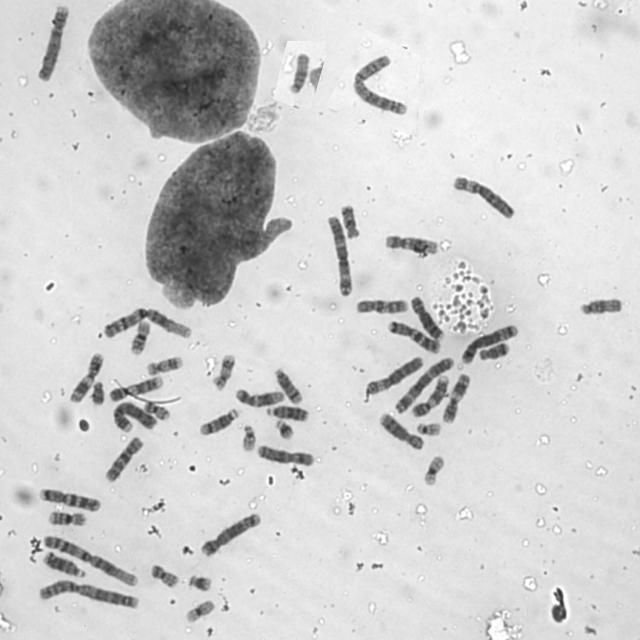A1: (40, 533, 139, 586), (104, 304, 192, 338)
A2: (352, 54, 409, 116), (36, 578, 140, 610)
A3: (394, 356, 454, 414), (326, 216, 353, 296)
B4: (35, 5, 69, 81), (111, 400, 159, 433)
B5: (200, 511, 261, 557), (461, 323, 518, 365)
C10: (103, 436, 145, 483), (356, 298, 409, 314)
C11: (69, 353, 105, 403), (443, 374, 472, 424)
C12: (232, 387, 286, 408), (384, 234, 438, 254)
C6: (449, 172, 518, 221), (366, 356, 424, 394)
C7: (387, 319, 441, 354), (37, 486, 101, 512)
C8: (378, 412, 424, 450), (410, 295, 444, 341)
C9: (412, 375, 449, 418), (109, 374, 163, 403)
D13: (41, 549, 87, 578), (264, 405, 308, 422)
D14: (198, 407, 240, 437), (274, 367, 303, 404)
D15: (286, 51, 310, 95), (578, 297, 622, 317)
E16: (130, 320, 151, 355), (46, 509, 86, 526)
E17: (212, 353, 236, 391), (146, 356, 183, 376)
E18: (340, 205, 361, 239), (478, 342, 510, 361)
F19: (184, 594, 215, 624), (422, 454, 446, 487)
F20: (148, 562, 179, 587), (144, 398, 171, 421)
G21: (272, 418, 296, 441), (190, 572, 212, 592)
G22: (242, 423, 256, 453), (416, 421, 441, 436)
X: (258, 444, 314, 467)
Y: (91, 382, 104, 404)
